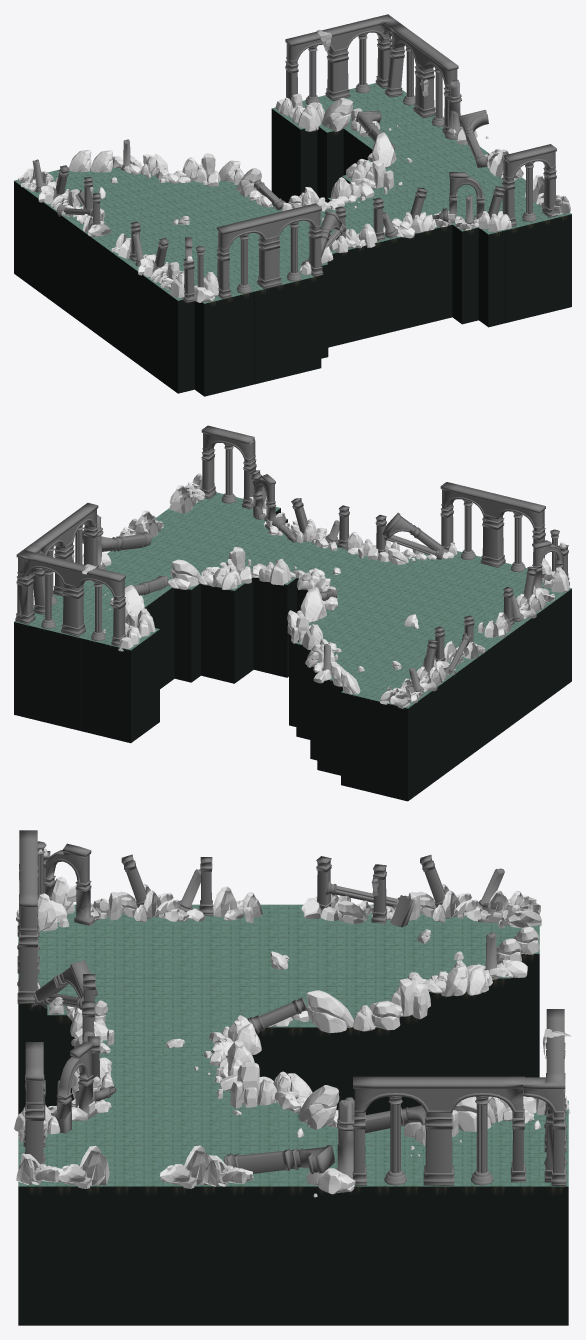
3 views of the same model, one above another, from view 1: azimuth 30°, elevation 25°; view 2: azimuth 150°, elevation 25°; view 3: azimuth 270°, elevation 25° (orthographic). The views are drawn at different scales.
Parts seen in each view (by area): view 1: Sea_Temple_Map_01.001, Object1758.023, Sea_Temple_Map_01_1.001; view 2: Sea_Temple_Map_01.001, Object1758.023, Sea_Temple_Map_01_1.001; view 3: Sea_Temple_Map_01.001, Object1758.023, Sea_Temple_Map_01_1.001, Sea_Temple_Map_01_1.002.
Boxes of the visible parts, x1,y1,x2,y2 form: Sea_Temple_Map_01.001: [14, 83, 571, 396]; Object1758.023: [32, 14, 557, 302]; Sea_Temple_Map_01_1.001: [18, 93, 570, 302]; Sea_Temple_Map_01.001: [14, 492, 571, 801]; Object1758.023: [15, 425, 569, 695]; Sea_Temple_Map_01_1.001: [82, 473, 569, 708]; Sea_Temple_Map_01.001: [18, 904, 568, 1325]; Object1758.023: [17, 830, 566, 1185]; Sea_Temple_Map_01_1.001: [14, 848, 570, 1197]; Sea_Temple_Map_01_1.002: [165, 929, 463, 1156].
Size of the model in its own units: 9601 by 3673 by 7669.
